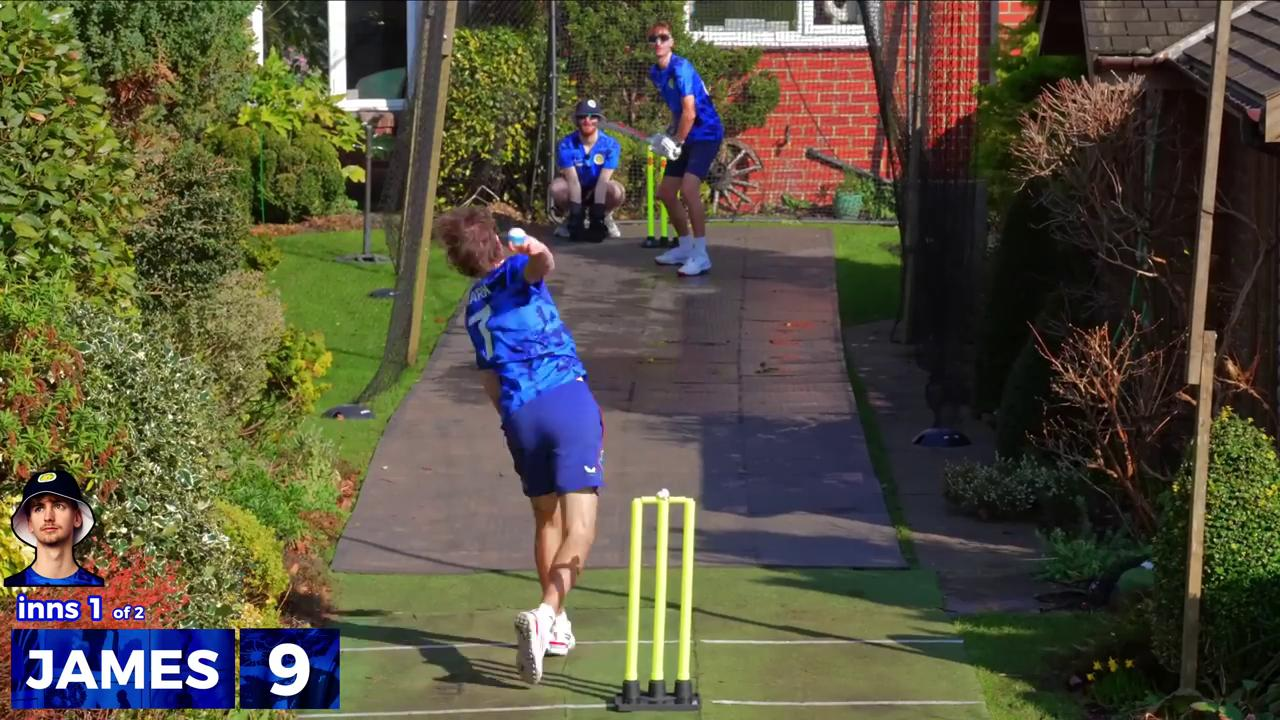ball: (499, 222, 529, 244)
